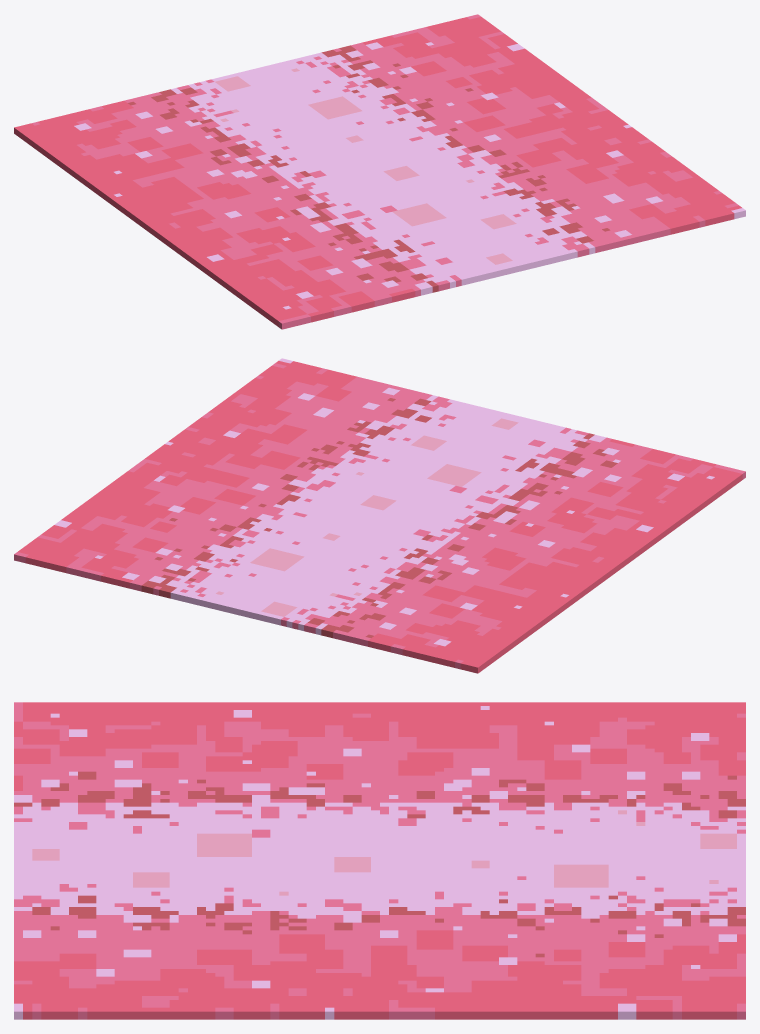
Rendered from SpringGround.fbx.
The picture shows the model from 3 angles, top to bottom: view 1: azimuth 30°, elevation 25°; view 2: azimuth 150°, elevation 25°; view 3: azimuth 270°, elevation 25°; orthographic projection. The views are drawn at different scales.
Visible parts, largest first — view 1: springGround; view 2: springGround; view 3: springGround.
Boxes of the visible parts, x1,y1,x2,y2 form: springGround: (14, 14, 745, 329); springGround: (14, 358, 745, 673); springGround: (14, 702, 745, 1019).
Bounding box in the file's own units: 80 × 1 × 80.
Materials: 1 (1 with a texture image).
